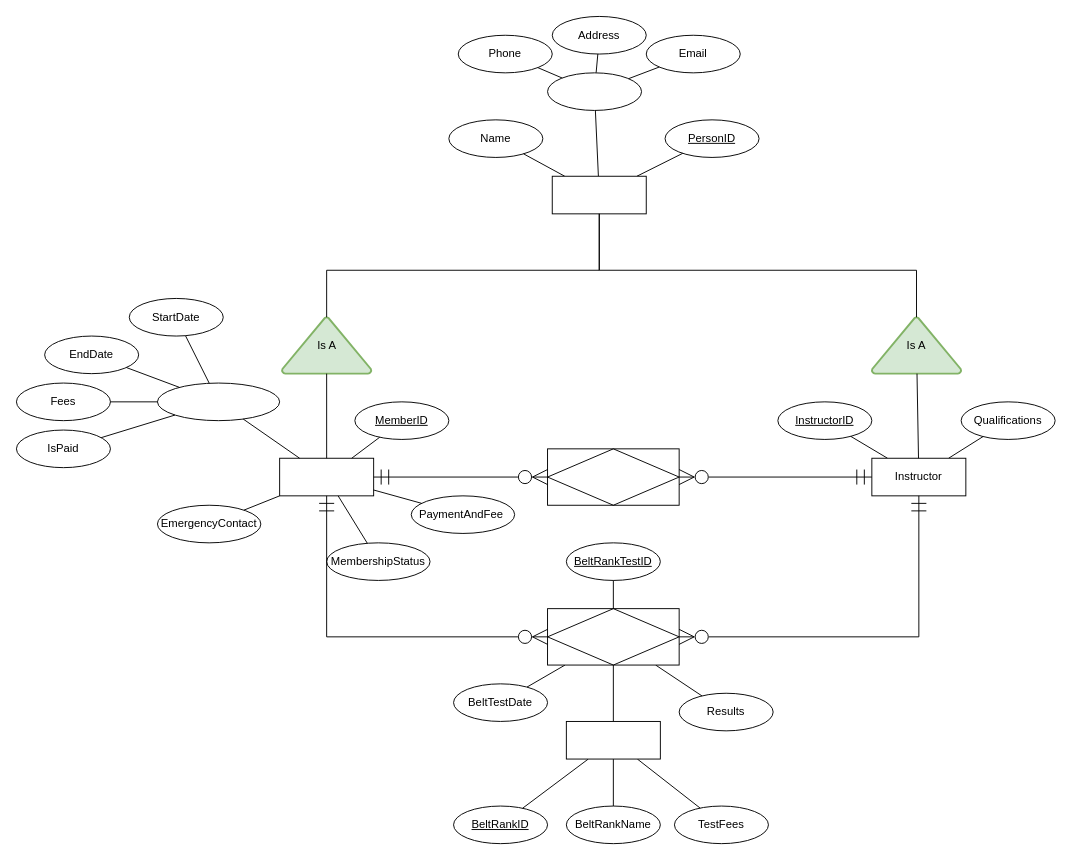
This 1072x860 diagram has some shape labels left out. The shapes that lost their labels are listed below. From the top down, each one's centre as x and y in pixels, then its label:
At point (594, 91): "( ContactInfo )".
At point (598, 194): "Person".
At point (218, 401): "( SubscriptionPeriod )".
At point (326, 476): "Membership".
At point (613, 476): "HaveInstructors".
At point (613, 636): "BeltRankTest".
At point (612, 740): "BeltRank".
